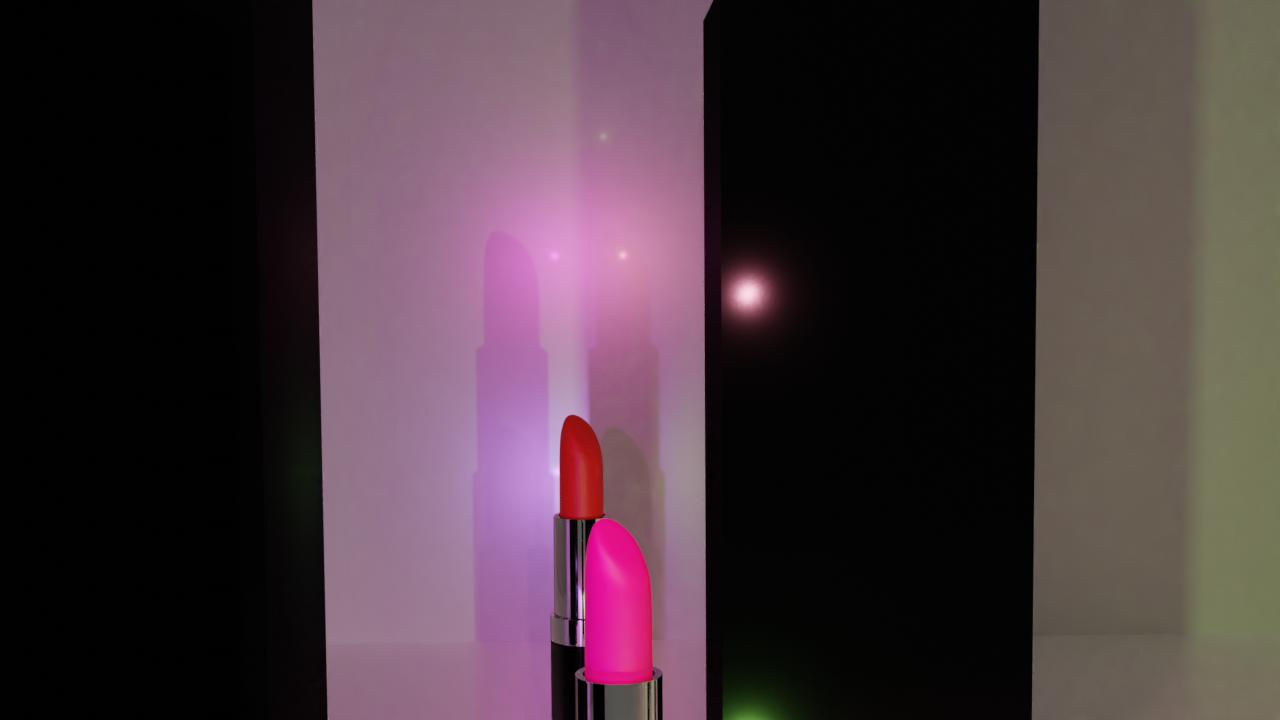CLASSIFIER_NAME: (569, 512, 672, 720), (550, 410, 617, 720)
